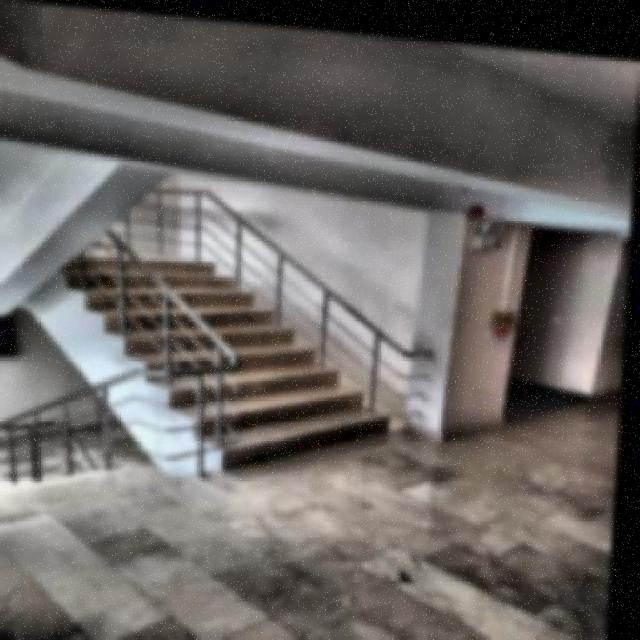stair: (55, 252, 411, 469)
